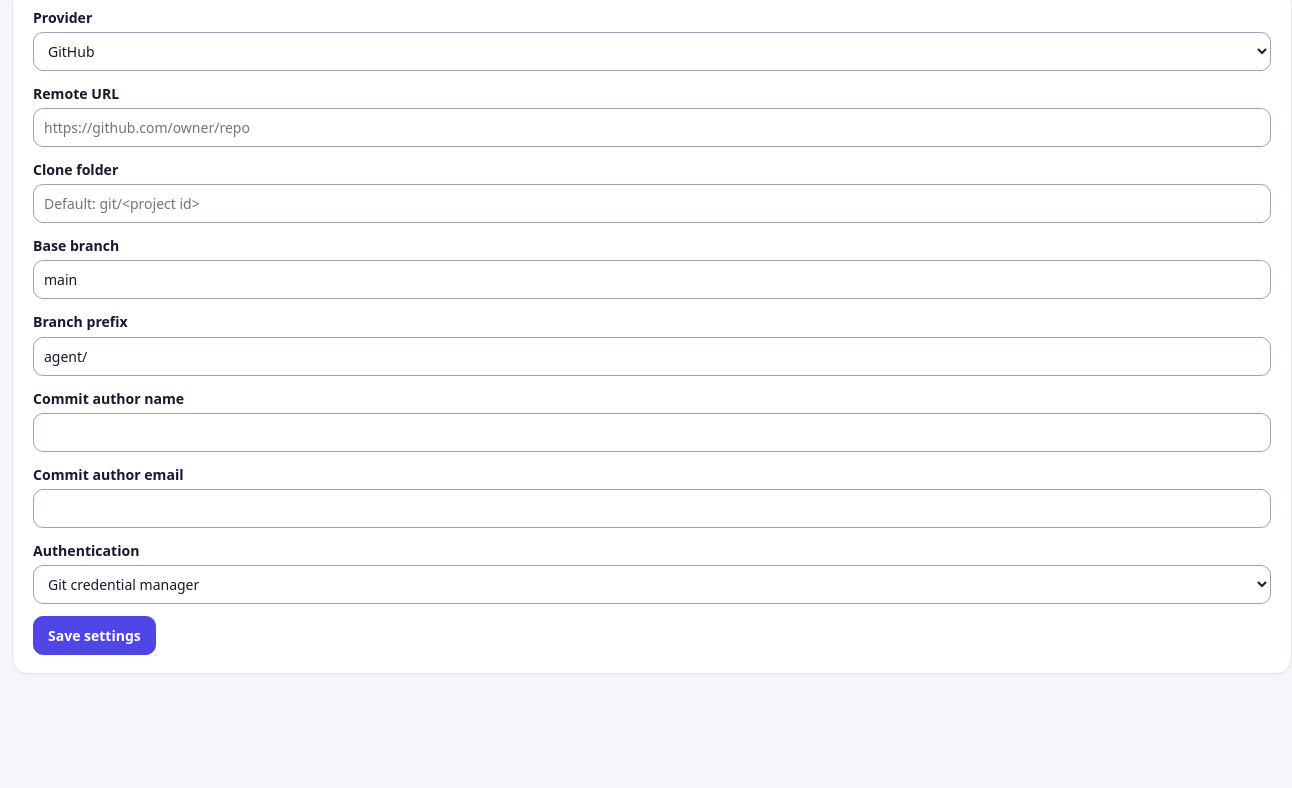
Scenario: git repository UI › saves the repository form and sends nothing else on load
The image size is (1292, 788).
Type "https://github.com/acme/app" into the field labelled "Remote URL". click: (652, 128)
box: top-left (33, 108), bottom-right (1271, 147)
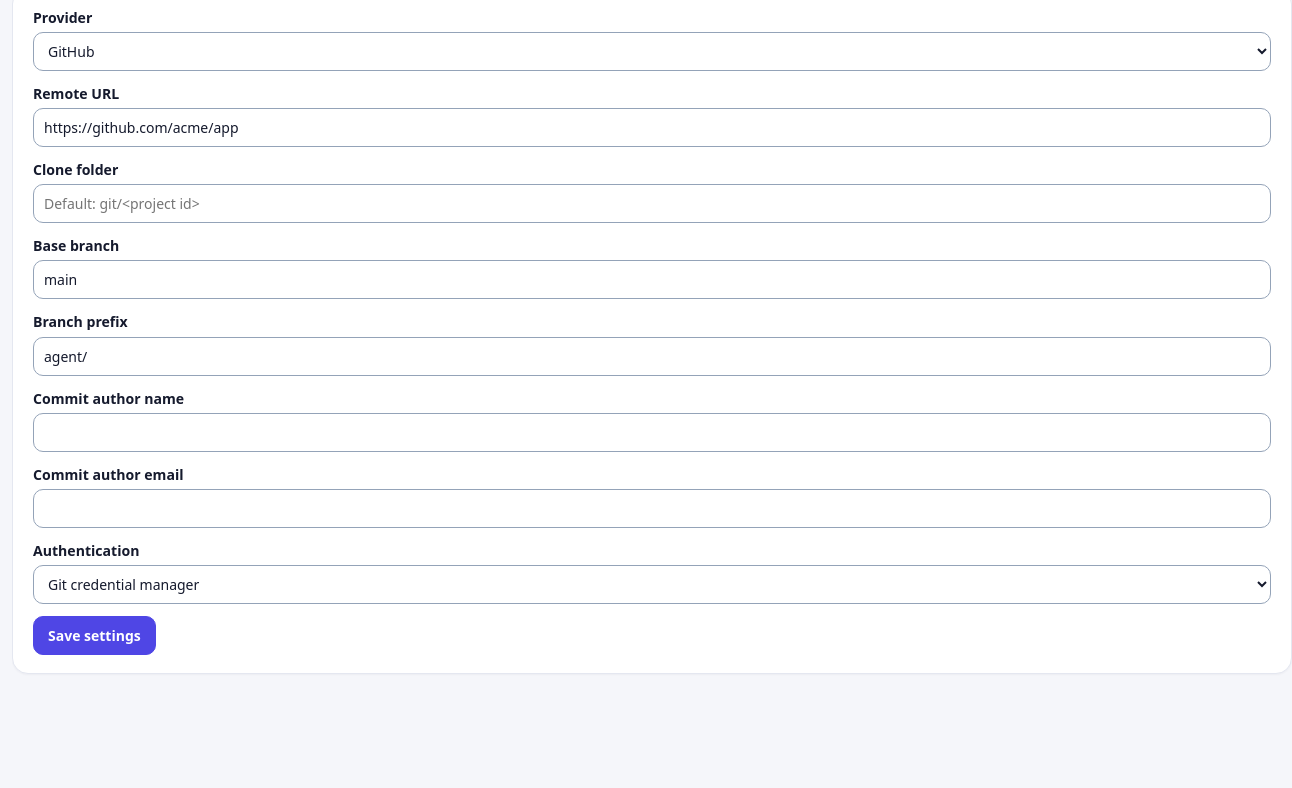
Select "GitLab" in the dropdown labelled "Provider". click: (652, 52)
box: top-left (33, 32), bottom-right (1271, 71)
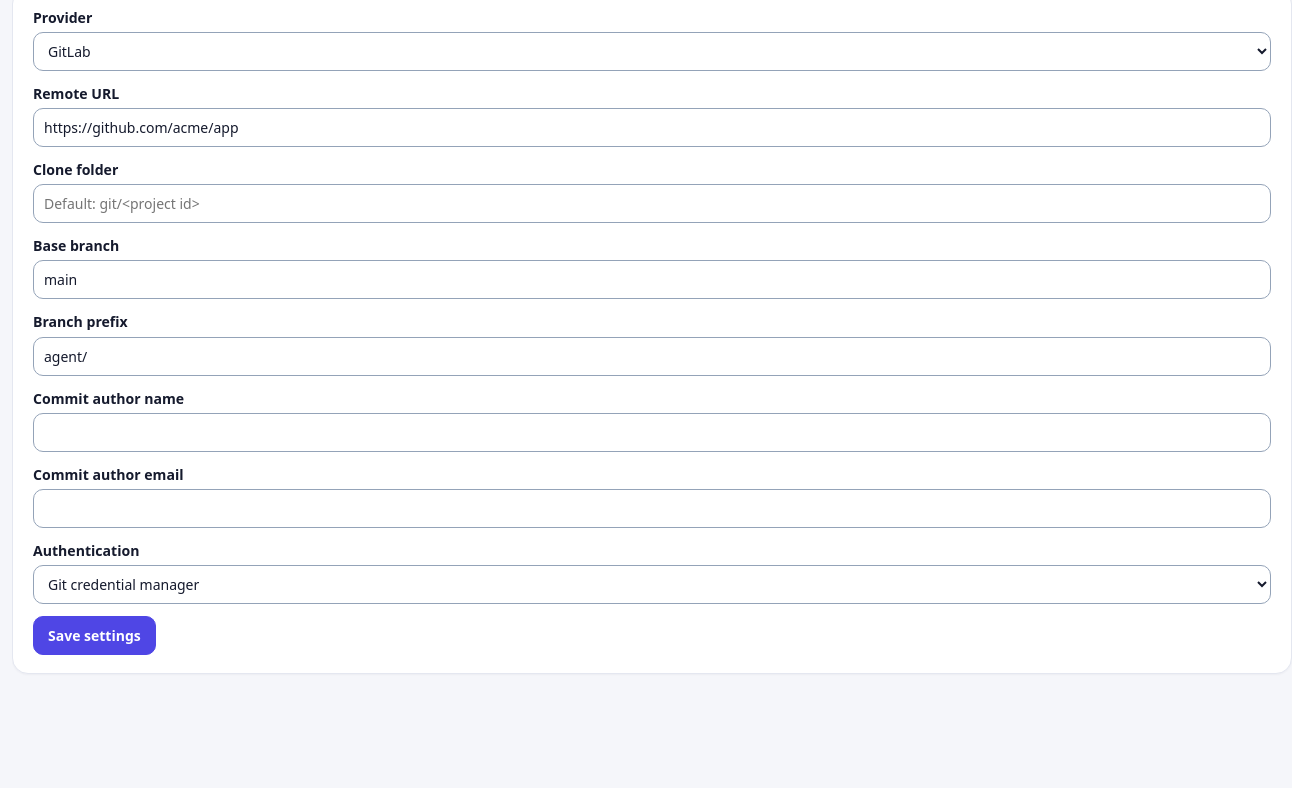
Type "Ada" into the field labelled "Commit author name". click: (652, 432)
box: top-left (33, 413), bottom-right (1271, 452)
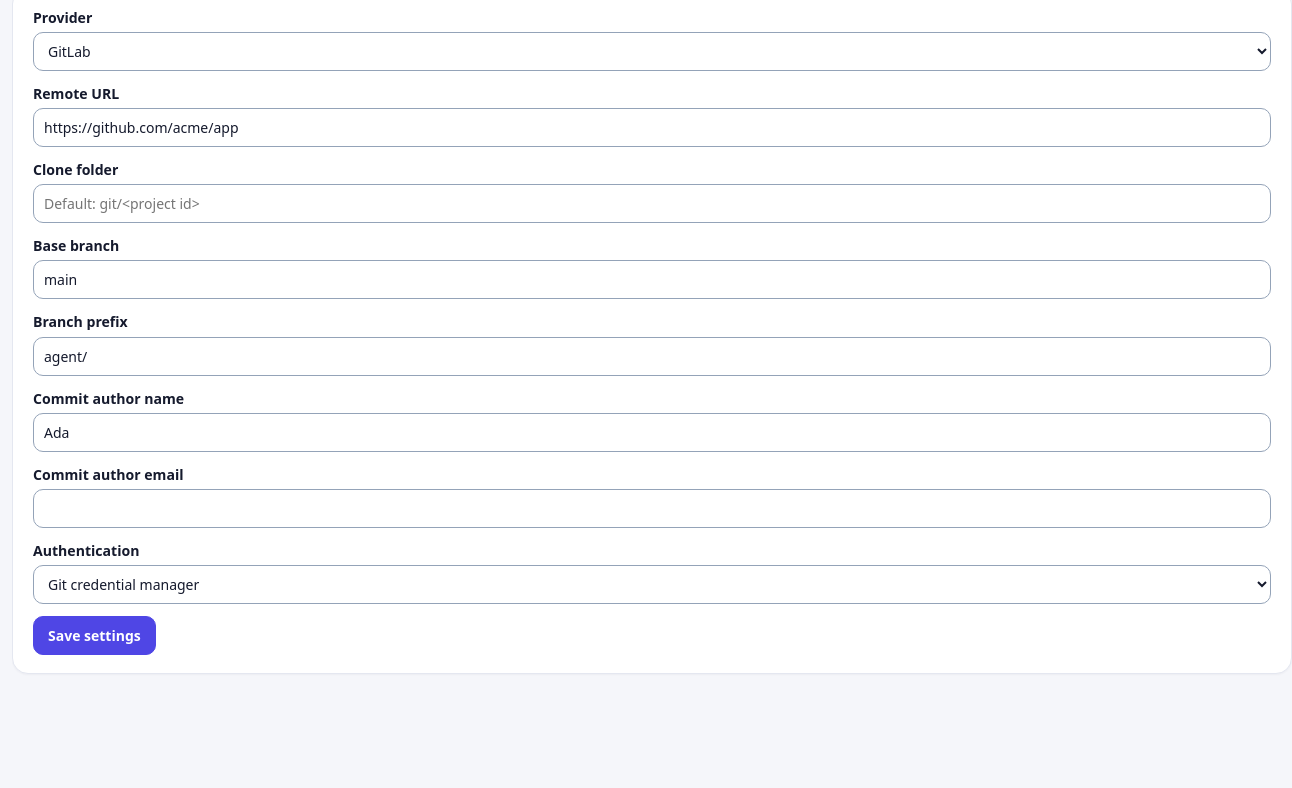
Type "ada@example.com" into the field labelled "Commit author email". click: (652, 508)
box: top-left (33, 489), bottom-right (1271, 528)
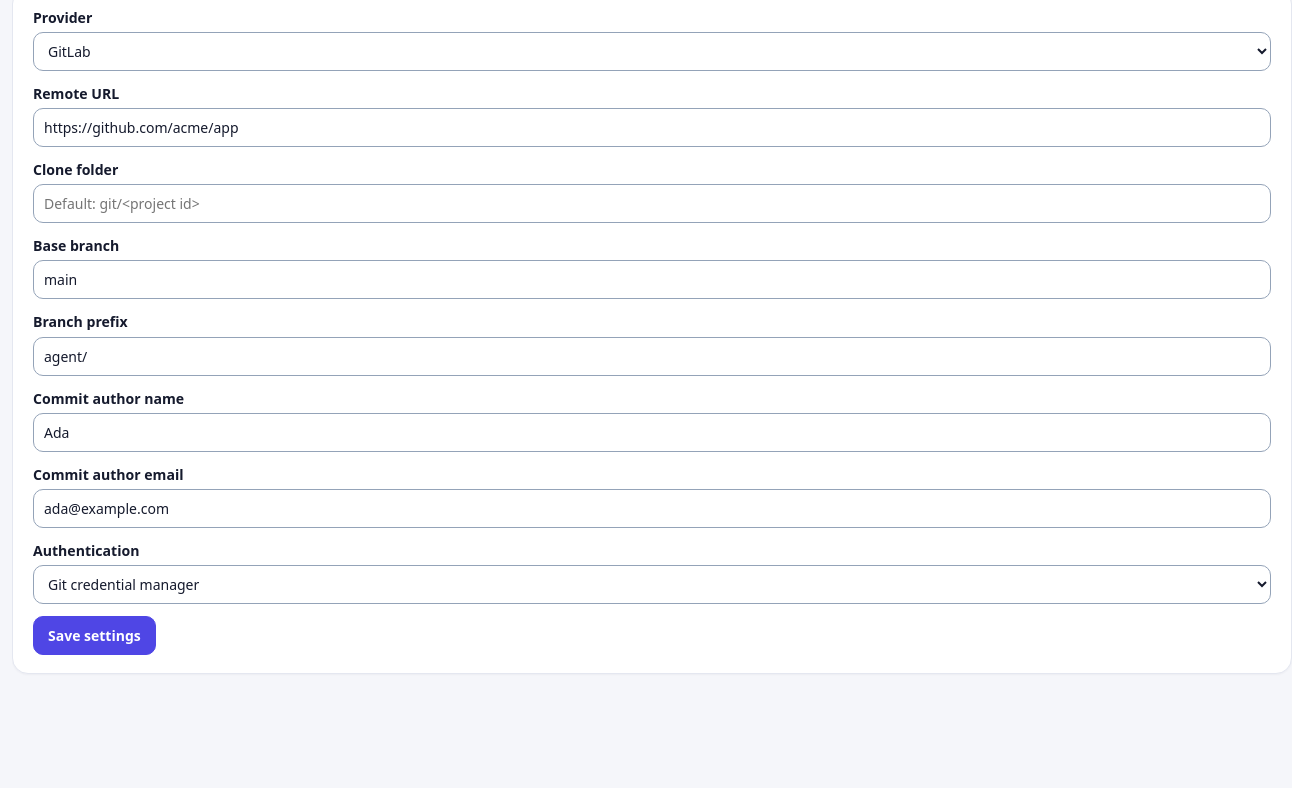
Check: the field labelled "Base branch" holds "main", box top-left (33, 260), bottom-right (1271, 299)
Check: the field labelled "Branch prefix" holds "agent/", box top-left (33, 336), bottom-right (1271, 376)
Click the button "Save settings". click: (94, 635)
box: top-left (33, 616), bottom-right (156, 655)
(page scrolled)
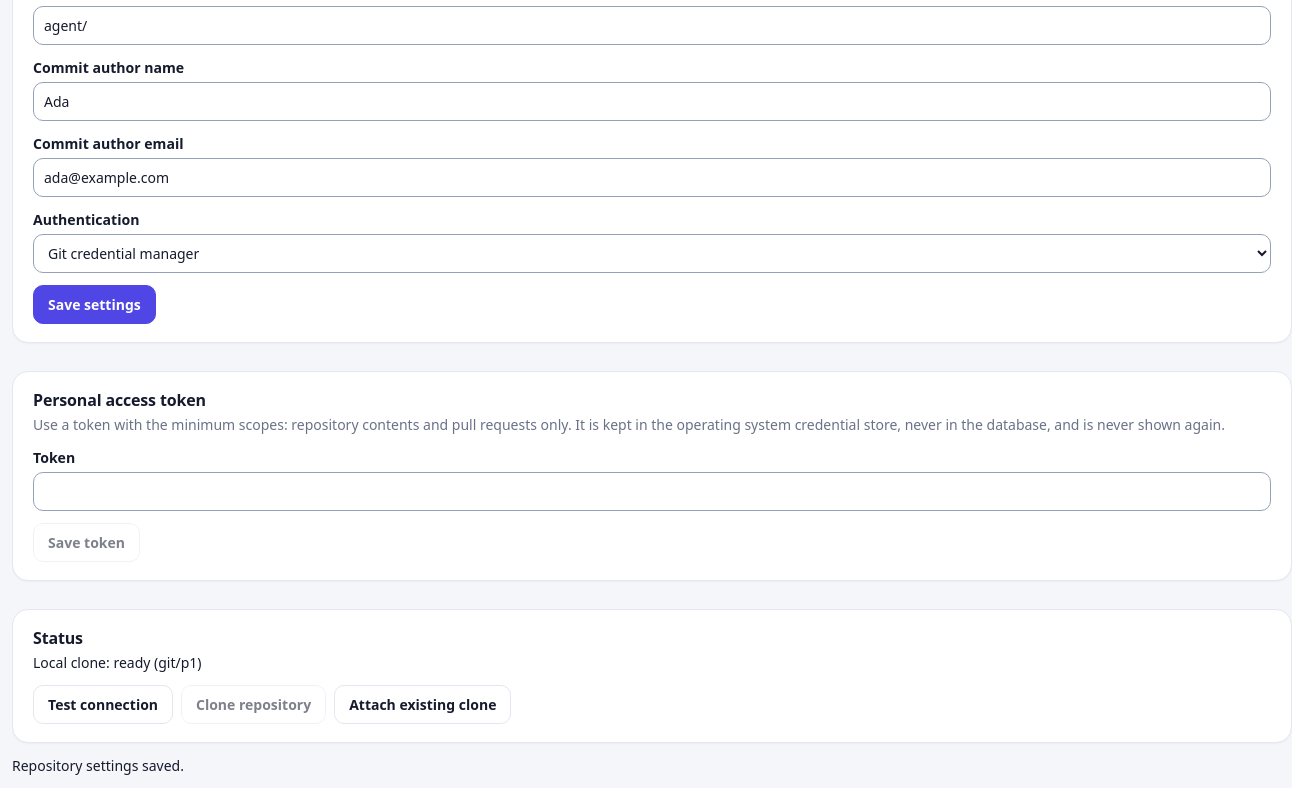
Check: the text "Repository settings saved." is shown, box top-left (12, 756), bottom-right (184, 775)
Check: the button "Test connection" is shown, box top-left (33, 685), bottom-right (173, 724)
